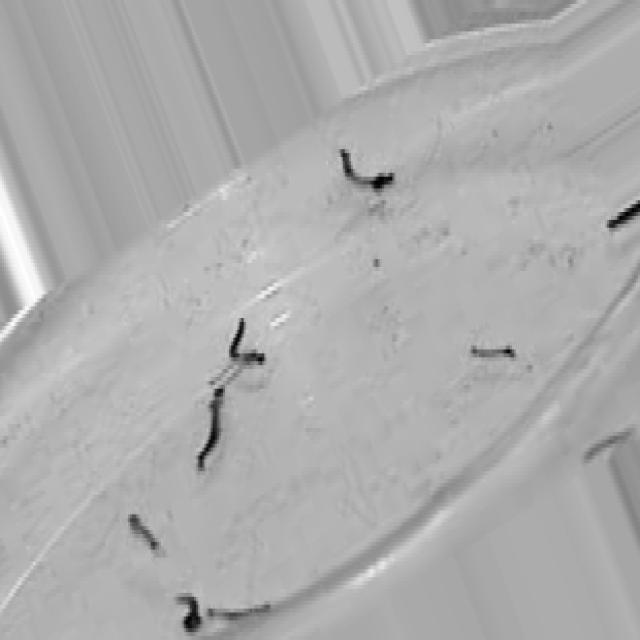larvas: (341, 146, 393, 187), (197, 391, 224, 465), (208, 600, 270, 625), (230, 322, 262, 365), (604, 194, 639, 230), (471, 338, 514, 366), (177, 589, 200, 633), (130, 517, 157, 553), (209, 357, 234, 389)
